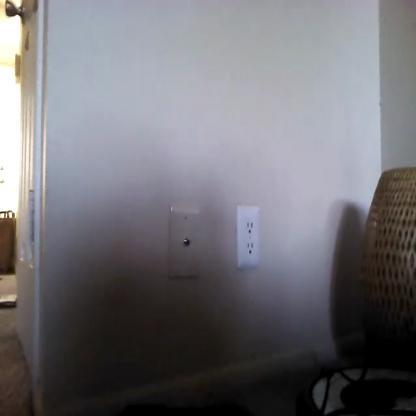OUTLET: (236, 204, 259, 268)
